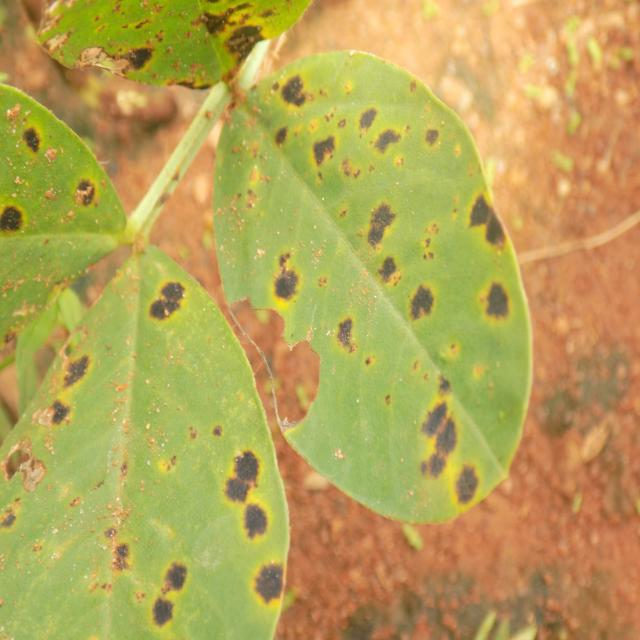Ground nut_tikka leaf spot: (209, 52, 533, 523)
